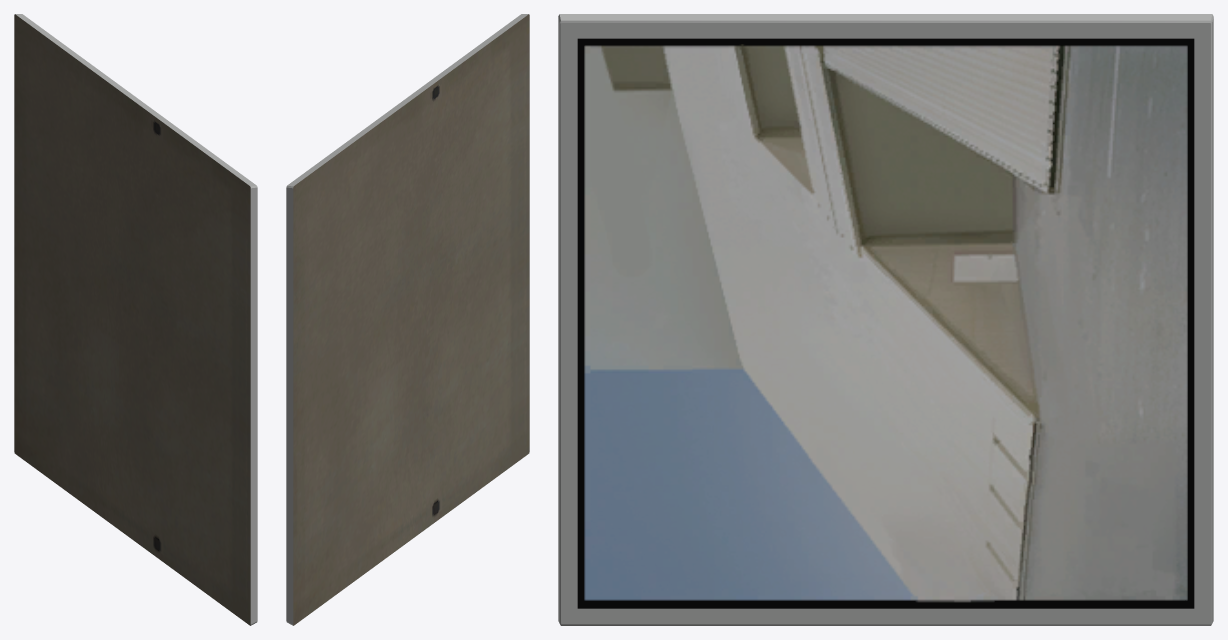
File: pictureframe_painting_tall_11_LOD0.obj
3 renders of one model, left to right at view 1: azimuth 30°, elevation 25°; view 2: azimuth 150°, elevation 25°; view 3: azimuth 270°, elevation 25°, orthographic. The views are drawn at different scales.
Visible parts, largest first — view 1: mtl_accessories_frame2_back, mtl_pictureframe_large_gray; view 2: mtl_accessories_frame2_back, mtl_pictureframe_large_gray; view 3: mtl_pictureframes_painting_modern_set_1, mtl_pictureframe_large_gray.
Boxes of the visible parts, x1,y1,x2,y2 form: mtl_accessories_frame2_back: [14, 14, 250, 625]; mtl_pictureframe_large_gray: [15, 14, 257, 625]; mtl_accessories_frame2_back: [293, 14, 529, 625]; mtl_pictureframe_large_gray: [286, 14, 528, 625]; mtl_pictureframes_painting_modern_set_1: [577, 38, 1194, 608]; mtl_pictureframe_large_gray: [558, 14, 1213, 625].
Size of the model in its own units: 3.78 by 206 by 201.
